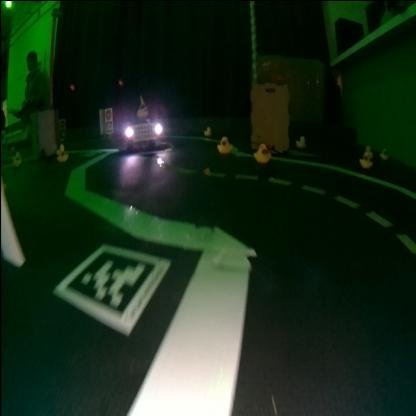Duckie: (254, 141, 270, 161), (217, 136, 231, 152), (360, 152, 372, 166), (137, 100, 147, 116), (296, 135, 306, 147), (380, 146, 388, 158), (12, 154, 20, 164), (58, 150, 67, 158), (205, 126, 210, 132)
Duckiebot: (124, 115, 162, 149)
QR code: (54, 244, 166, 334), (104, 121, 112, 131)
Stop sign: (105, 107, 111, 119)
